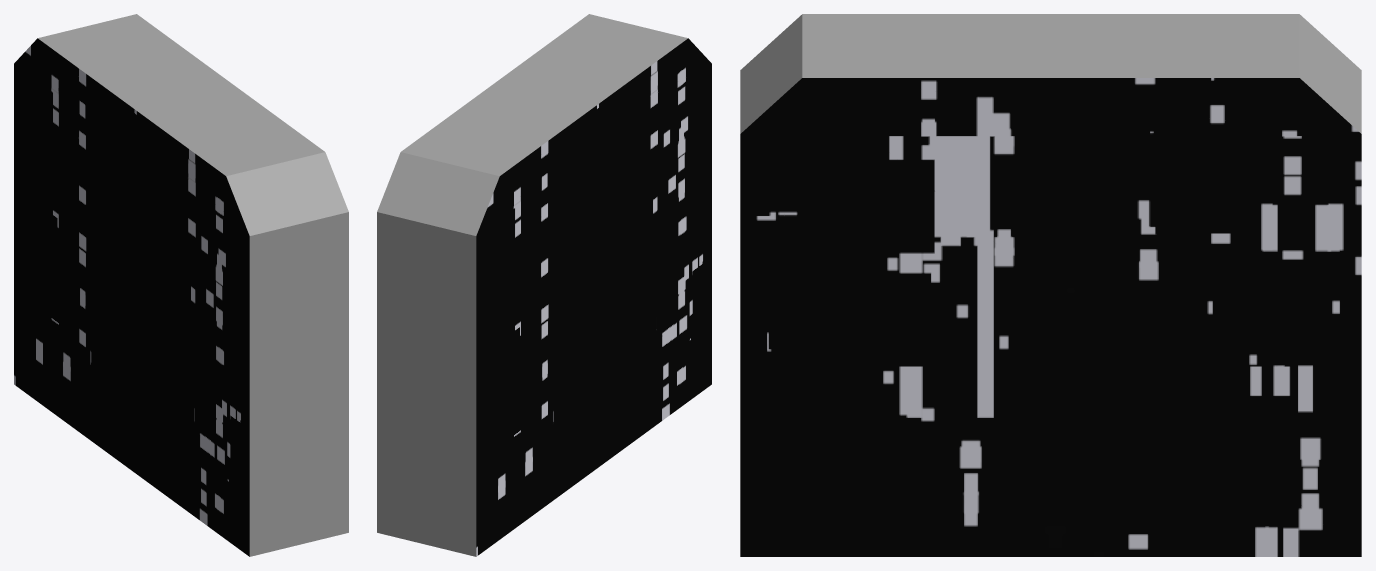
The model's file is Building09.fbx.
3 renders of one model, left to right at view 1: azimuth 30°, elevation 25°; view 2: azimuth 150°, elevation 25°; view 3: azimuth 270°, elevation 25°, orthographic. The views are drawn at different scales.
Parts seen in each view (by area): view 1: Building09; view 2: Building09; view 3: Building09.
Part boxes in pixels (bbox=[...]): Building09: bbox=[14, 14, 348, 556]; Building09: bbox=[377, 14, 711, 556]; Building09: bbox=[740, 14, 1361, 556].
Bounding box in the file's own units: 0.1535 × 0.5372 × 0.6314.
